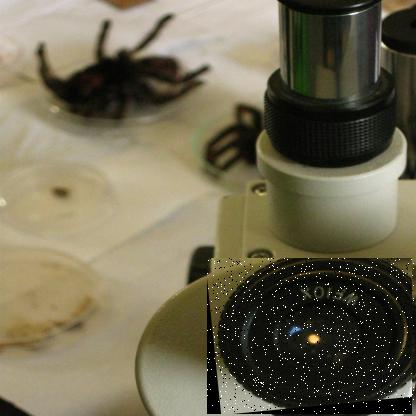Camera: (209, 259, 416, 416)
